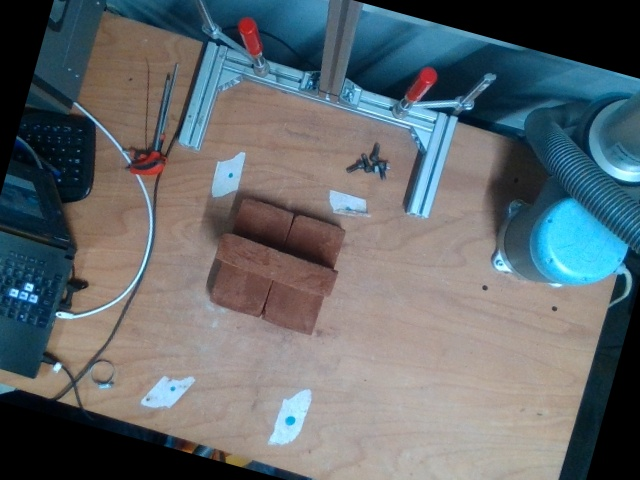brick-side: (215, 232, 337, 296)
